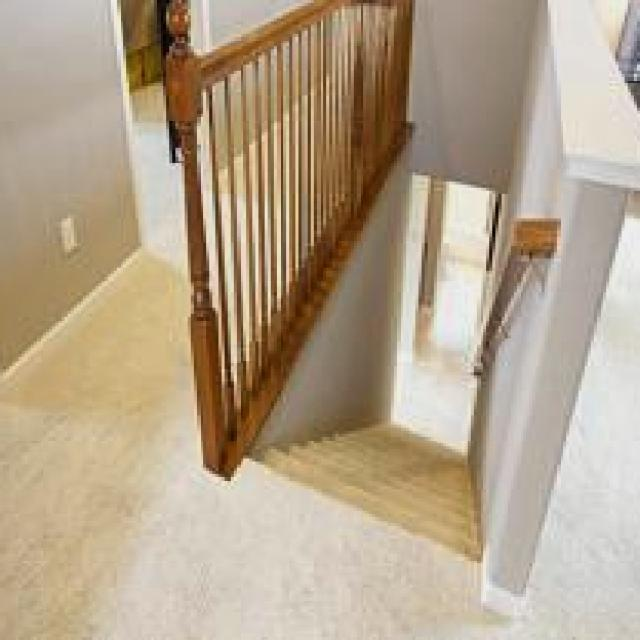downstair: (241, 346, 490, 580)
